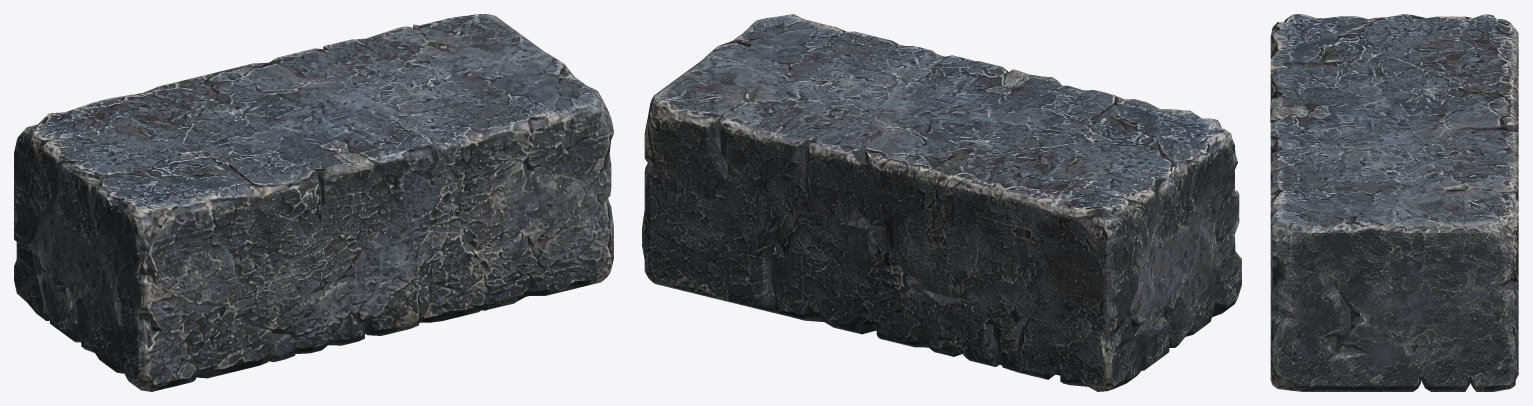
The model's file is base_basic_pbr.fbx.
3 views of the same model, side by side, from view 1: azimuth 30°, elevation 25°; view 2: azimuth 150°, elevation 25°; view 3: azimuth 270°, elevation 25° (orthographic). The views are drawn at different scales.
Visible parts, largest first — view 1: model; view 2: model; view 3: model.
Part boxes in pixels (x1,y1,x2,y2): model: (14, 14, 613, 391); model: (642, 14, 1241, 391); model: (1270, 14, 1518, 391).
Bounding box in the file's own units: 190 × 69.82 × 92.04.
Materials: 1 (1 with a texture image).
